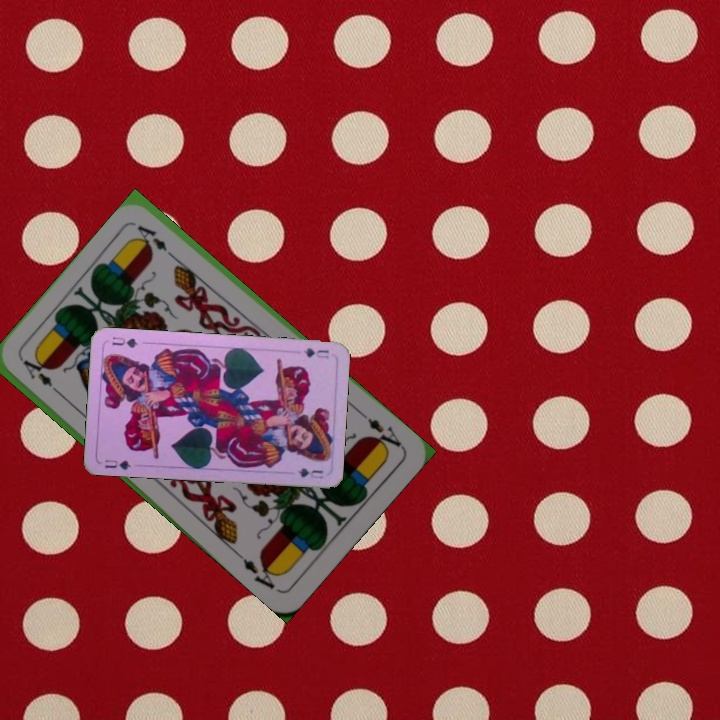EA: (356, 408, 406, 455), (18, 355, 66, 400)
GU: (299, 344, 331, 361), (101, 456, 133, 472)
